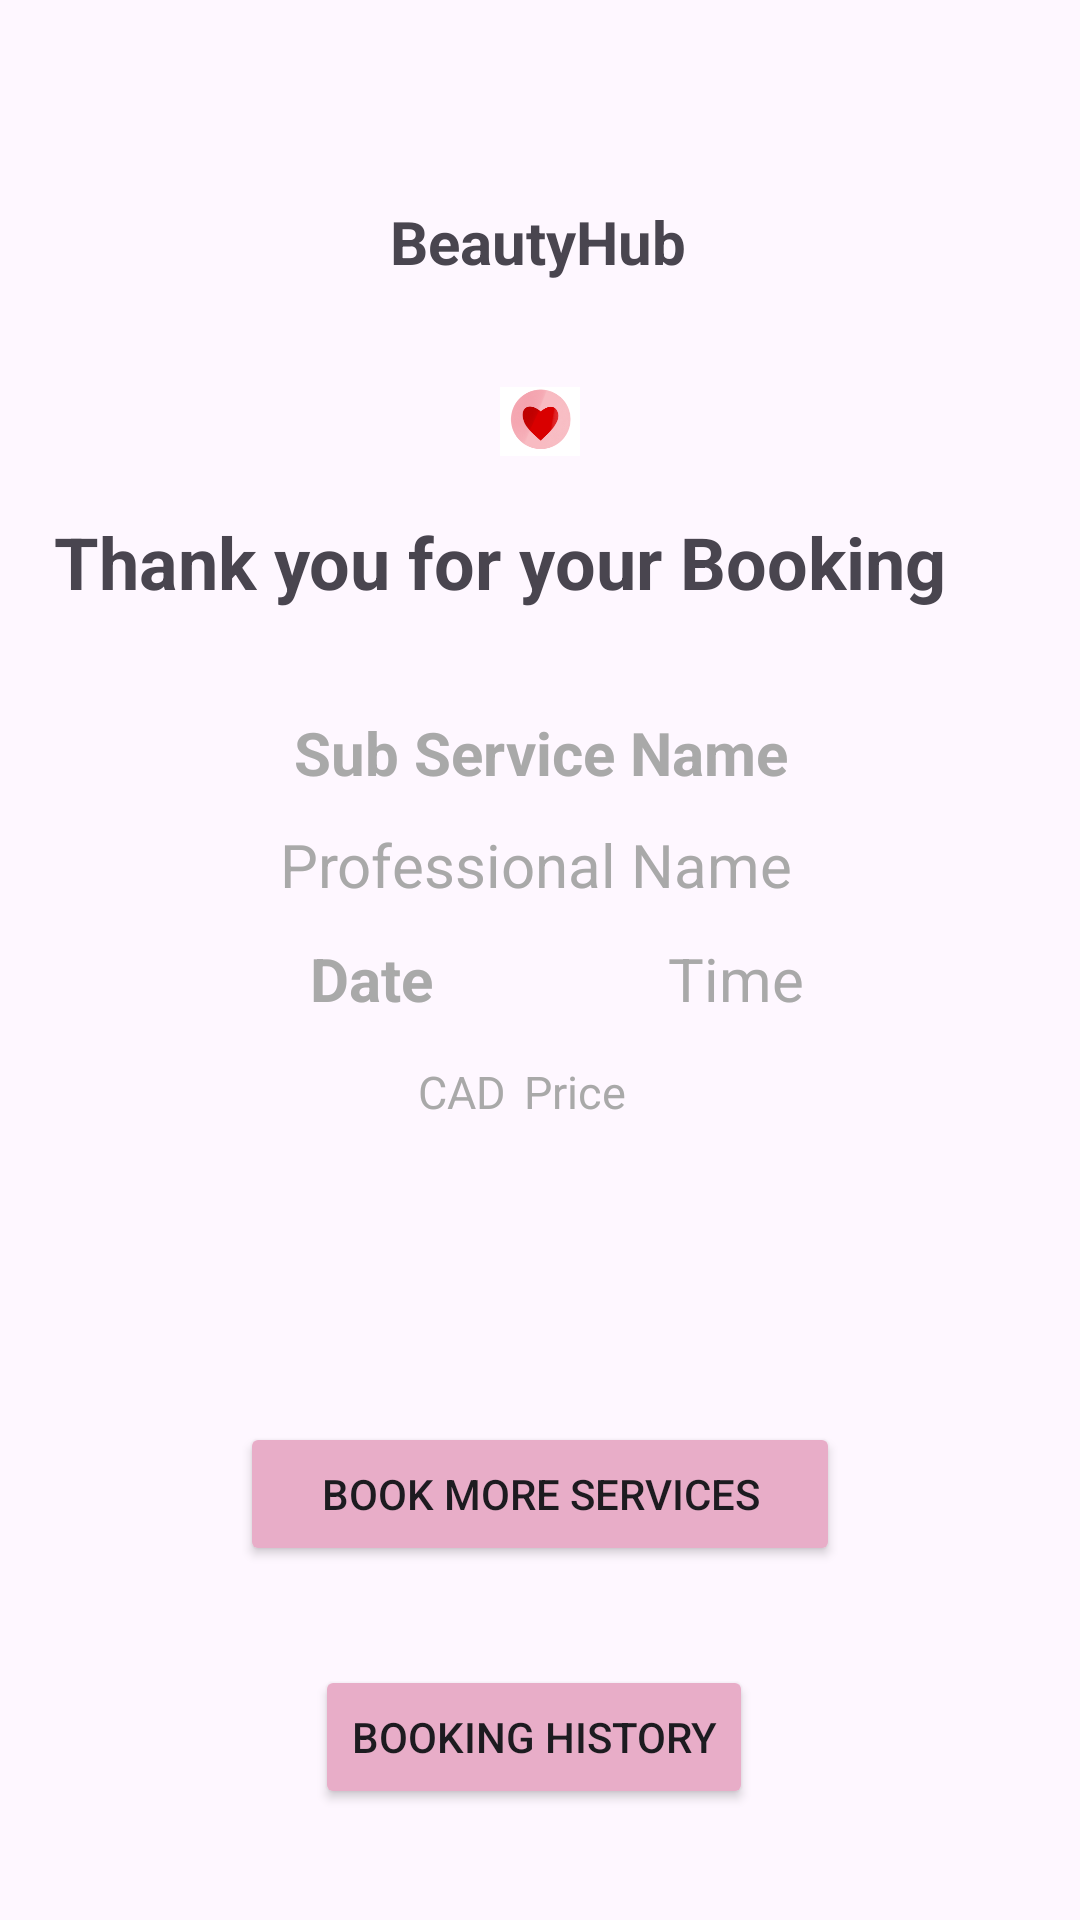

Locate icon controls on the screen. Image size 1080x1920, boxes as [left=x1, top=y1, right=x2, bottom=y2].
heart: [left=511, top=389, right=571, bottom=449]
